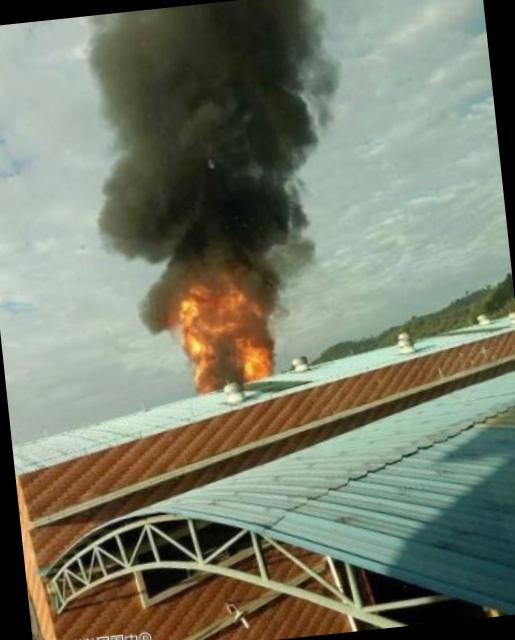fire: (188, 278, 250, 334), (178, 294, 208, 358), (241, 339, 276, 378), (192, 354, 220, 392)
